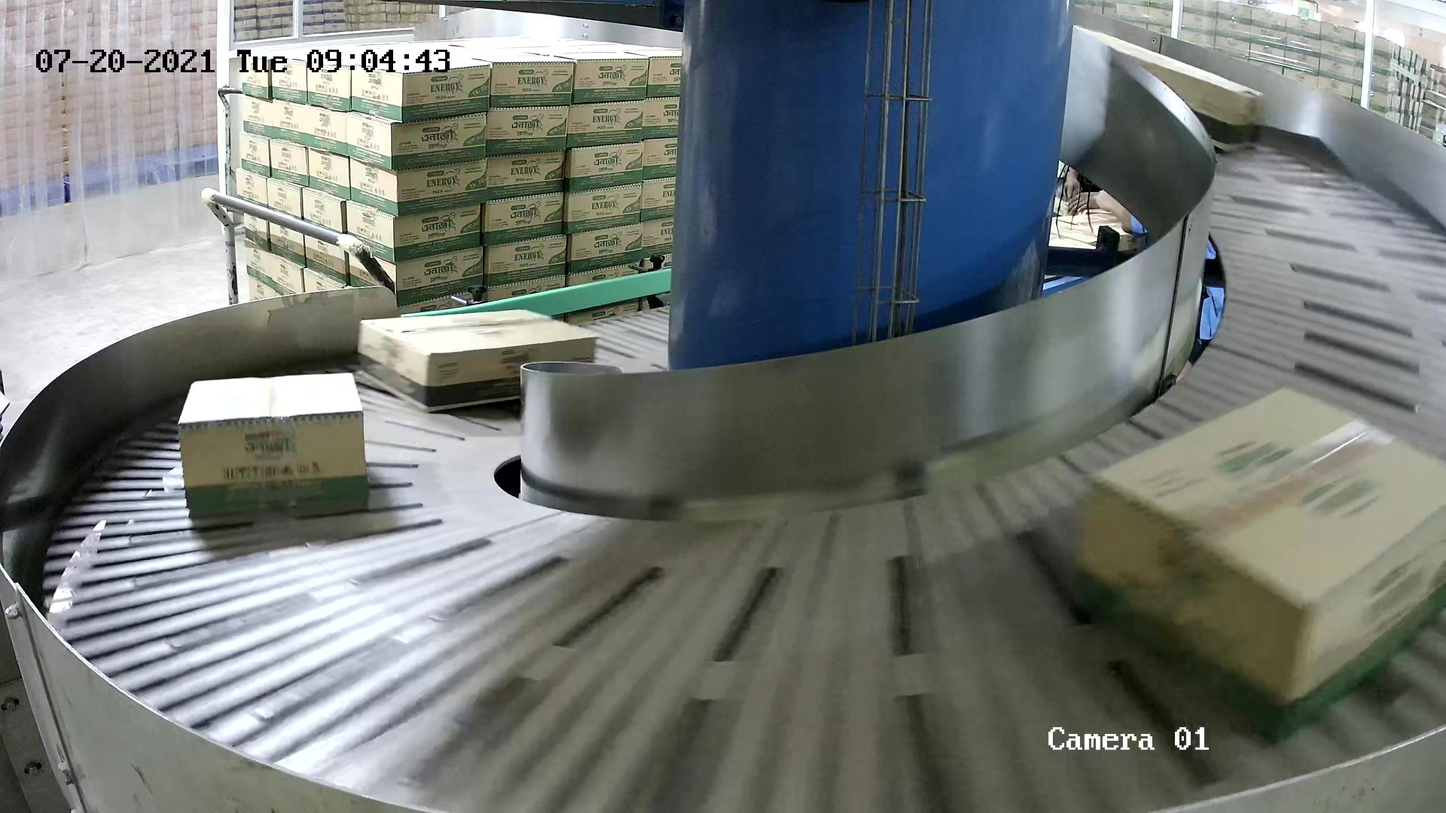Box: (1077, 380, 1446, 751), (176, 369, 372, 519), (356, 307, 603, 417), (1075, 26, 1265, 153)
